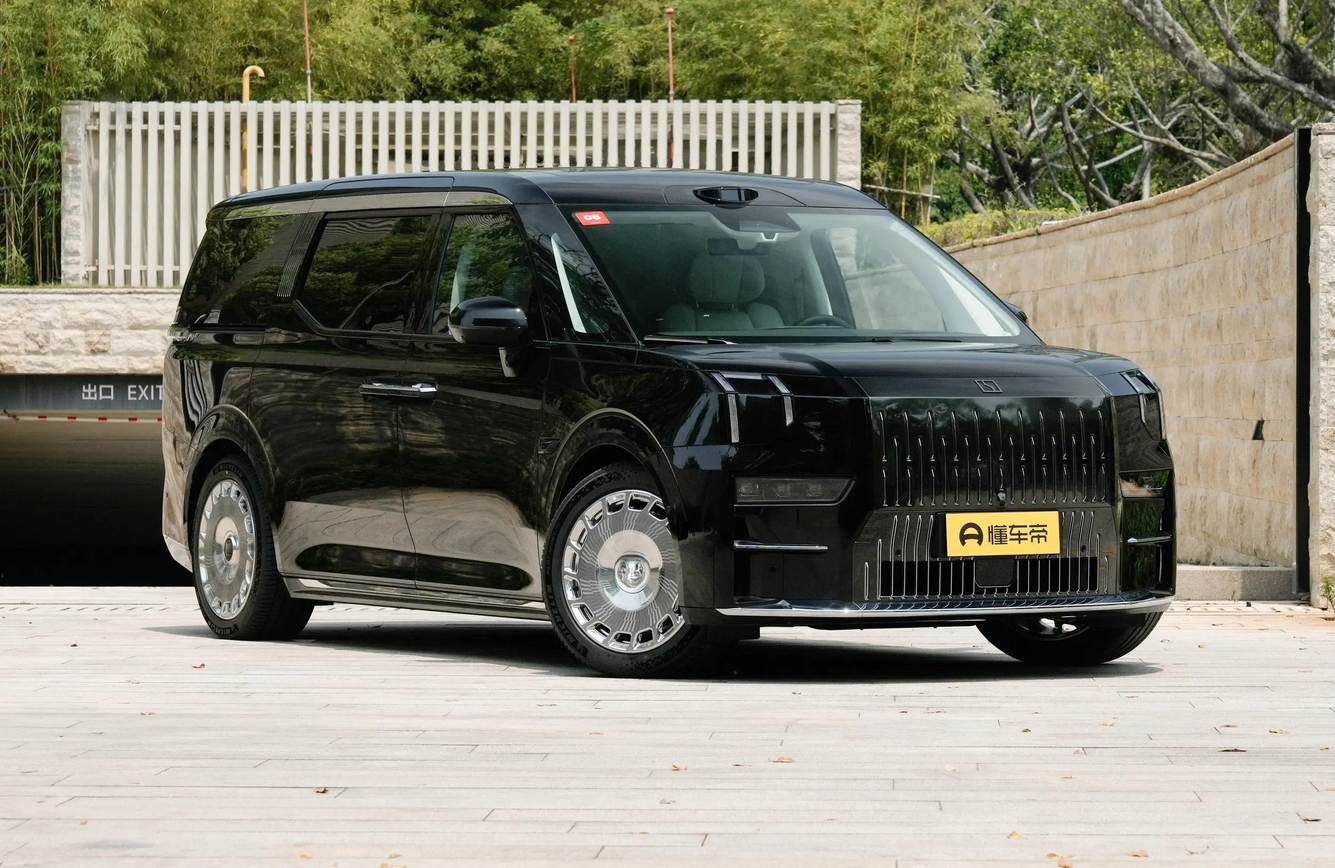ZEEKR: (975, 380, 1002, 392)
